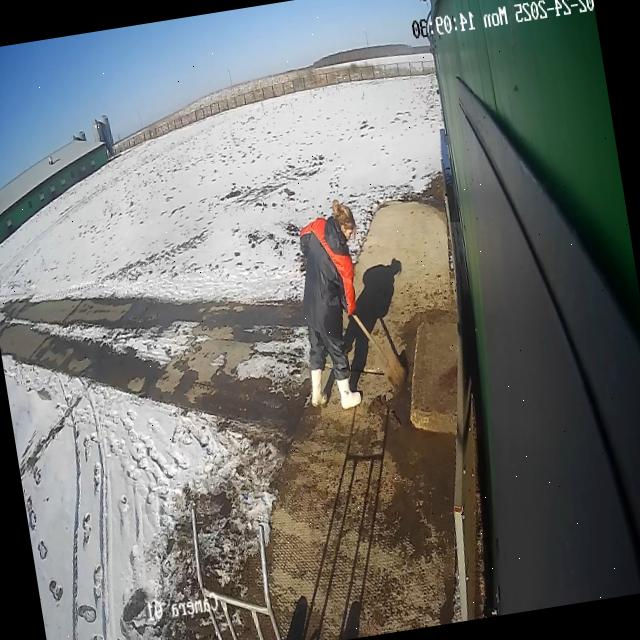Red uniform: (279, 196, 386, 417)
